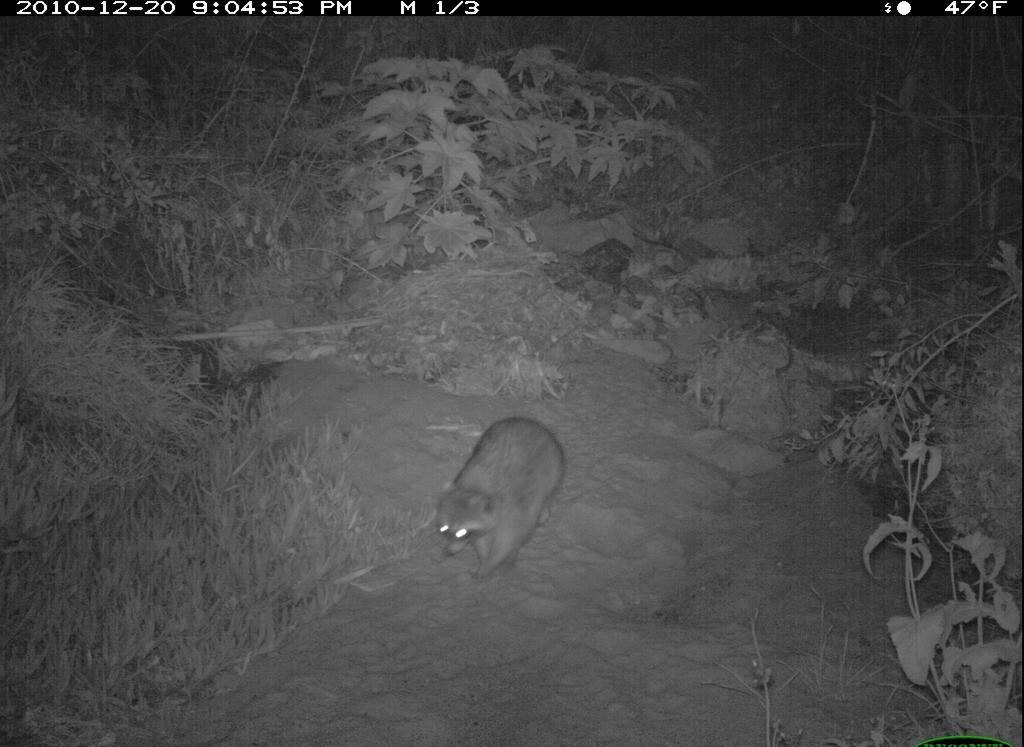raccoon: (427, 413, 569, 588)
